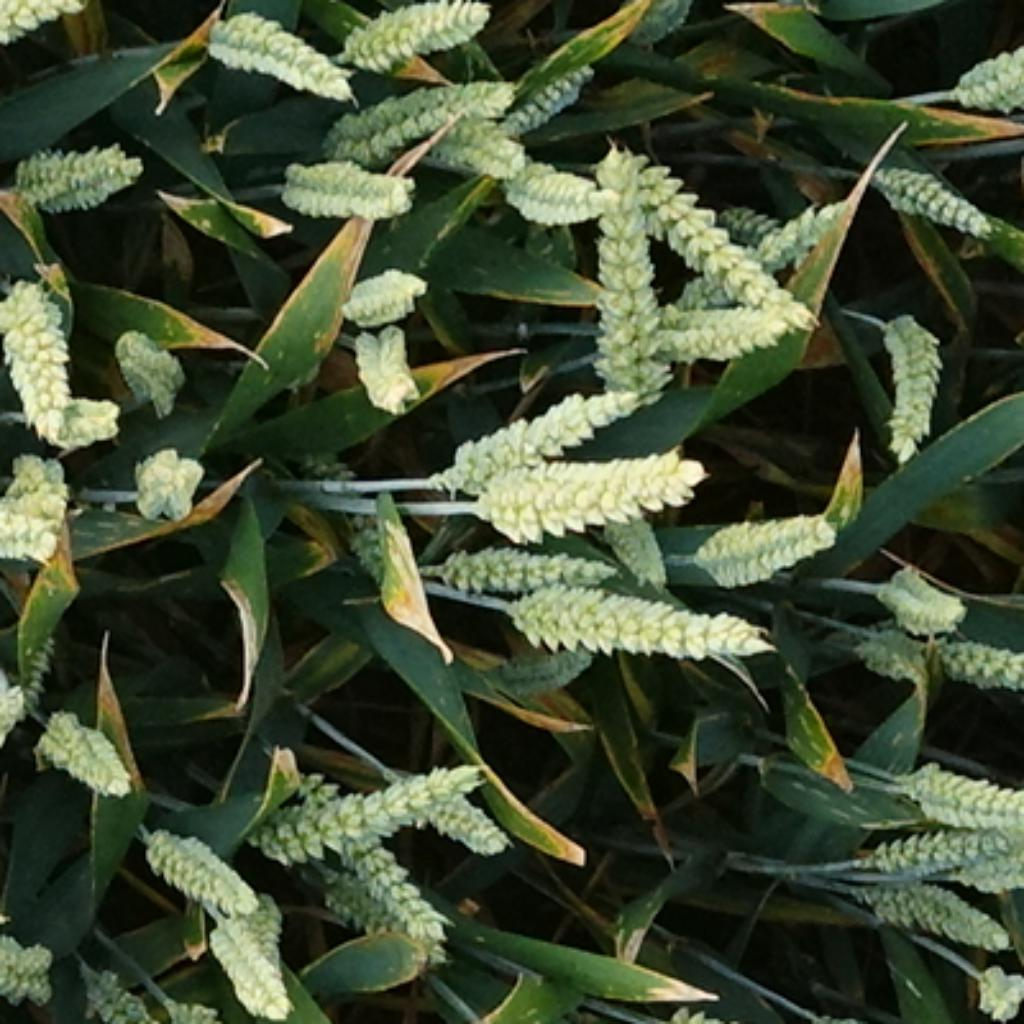0-0: (294, 770, 460, 942), (240, 752, 506, 857), (432, 386, 675, 496), (486, 576, 773, 668), (458, 440, 701, 542), (593, 143, 780, 261), (678, 194, 847, 309), (576, 171, 668, 381), (317, 74, 512, 156), (302, 448, 409, 593), (194, 2, 348, 99), (0, 261, 87, 427), (199, 888, 299, 1021), (862, 143, 995, 238), (872, 302, 947, 468), (688, 499, 839, 581), (135, 811, 256, 913), (309, 867, 458, 949), (332, 2, 501, 74), (847, 867, 1008, 942), (2, 130, 143, 209), (33, 698, 138, 798), (655, 289, 806, 358), (857, 814, 1013, 880), (504, 33, 606, 130), (268, 151, 417, 217), (389, 765, 514, 834), (898, 755, 1016, 826), (496, 145, 604, 222), (471, 645, 593, 709), (435, 537, 588, 588), (0, 465, 79, 563), (419, 110, 532, 176), (71, 952, 174, 1024), (870, 550, 965, 627), (110, 317, 189, 401), (942, 30, 1024, 110), (348, 312, 419, 404), (0, 888, 58, 998), (125, 448, 207, 522), (335, 256, 427, 320), (0, 2, 92, 66), (921, 627, 1016, 688), (0, 445, 71, 522), (847, 611, 929, 675), (38, 378, 117, 442), (17, 619, 62, 719), (719, 199, 801, 253), (596, 504, 663, 570), (248, 885, 291, 983), (616, 2, 709, 40), (0, 663, 33, 760), (478, 1018, 568, 1024)
